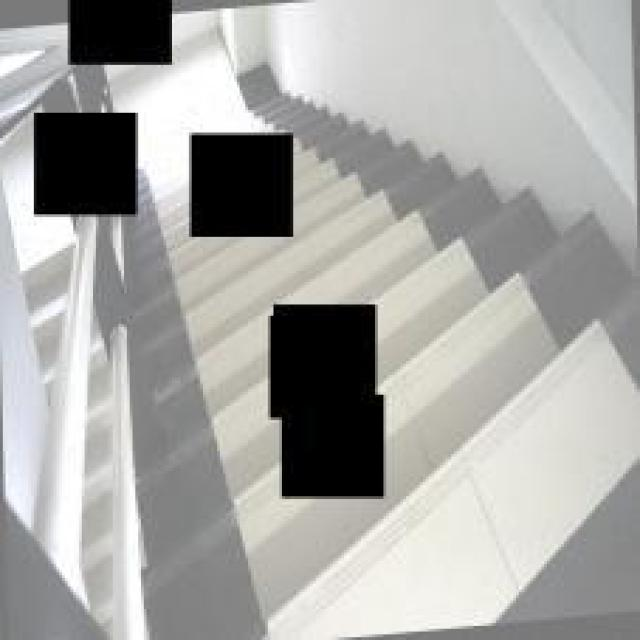downstair: (387, 215, 638, 638)
